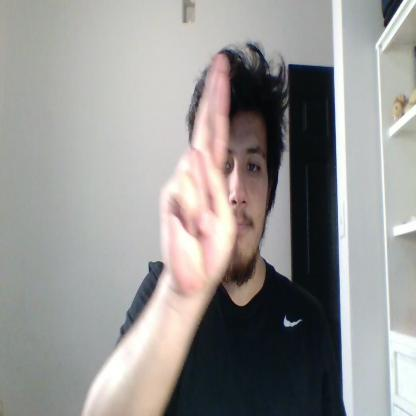R: (160, 53, 237, 298)
